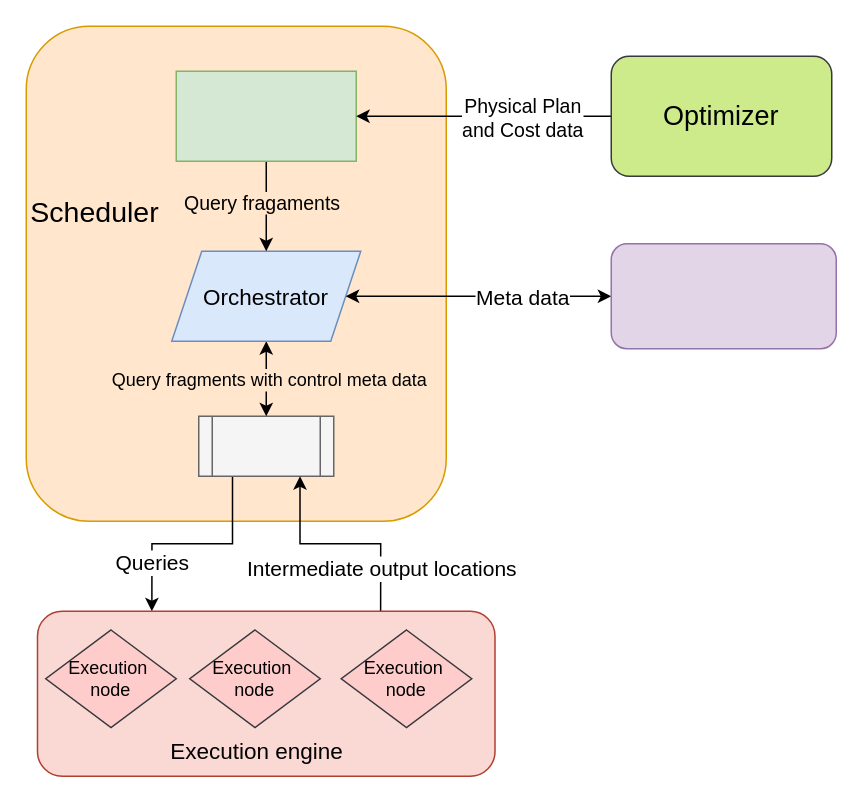
Image size: 863x803. Some labels were removed from this diagram. Here are the shapes that lost their labels. From the top down, the centre of each, then its label:
the point at 265,115: Physical Plan Parser
the point at 723,295: Catalog
the point at 265,445: gRPC interface
